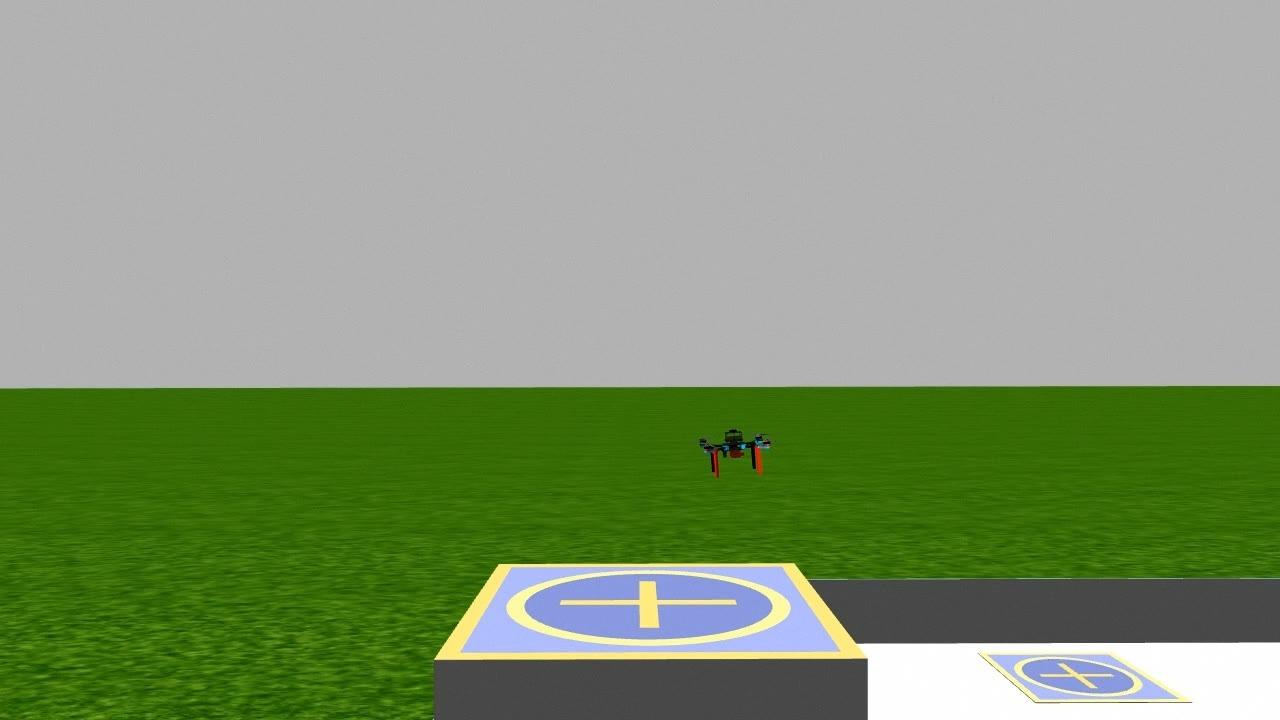UAV: (677, 410, 772, 491)
